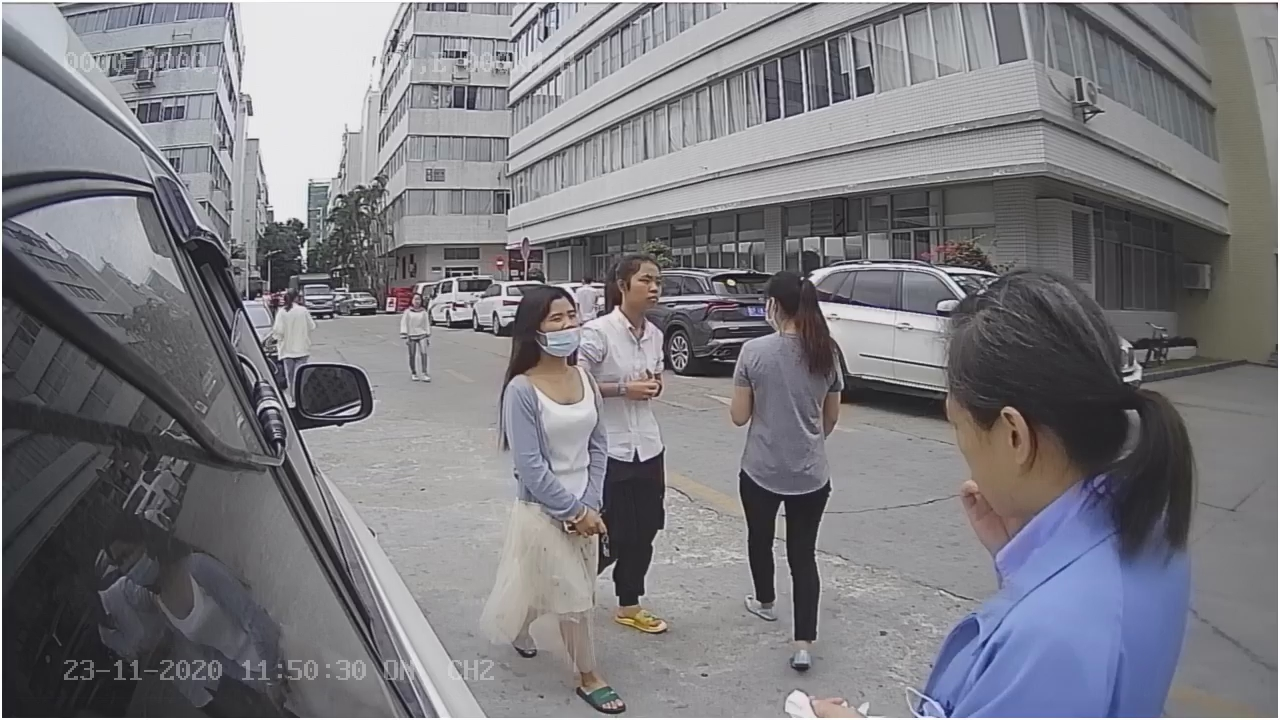person: (495, 277, 628, 712), (725, 266, 834, 670)
